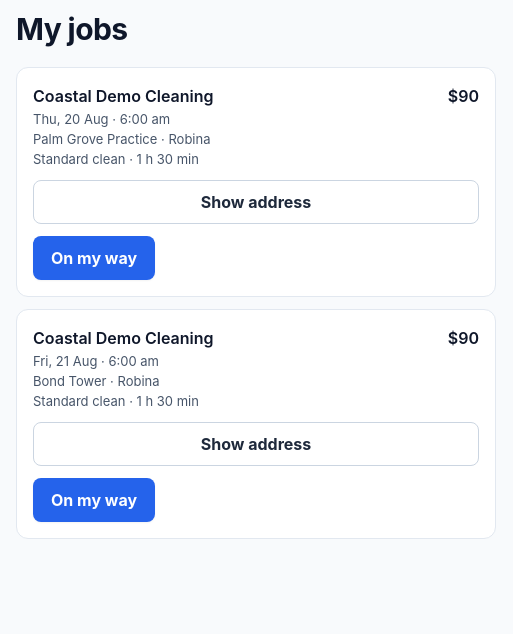
CLE-24 the address is fetched only when she asks › reveals the address on the card that asked for it, and only that one
Click the button "Show address" below "Thu, 20 Aug" at (256, 202), box [33,180,479,224]
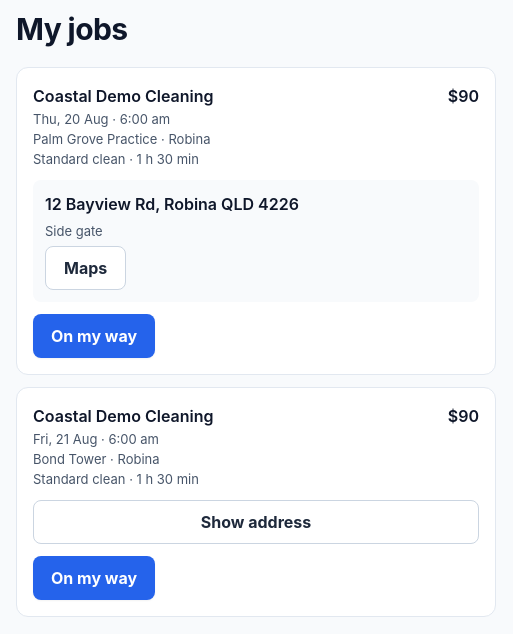
Now the text "12 Bayview Rd, Robina QLD 4226" is shown, box [45,192,299,216]
